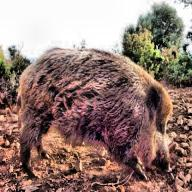boar: (10, 48, 180, 187)
